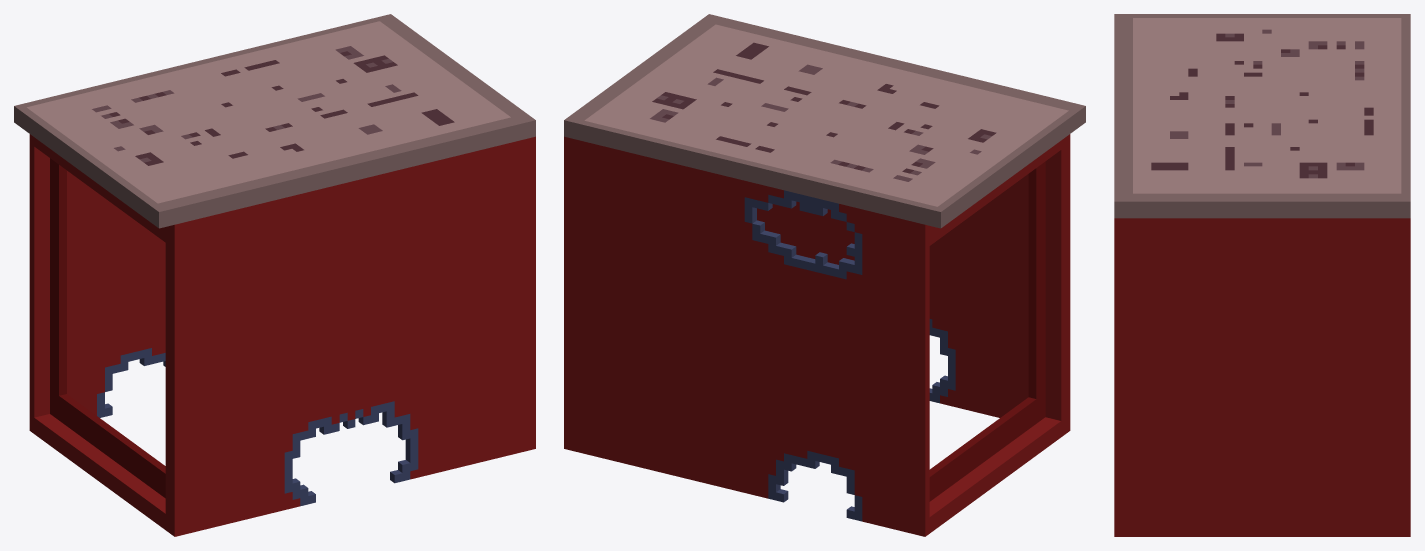
File: BaseCajon3.fbx
3 views of the same model, side by side, from view 1: azimuth 30°, elevation 25°; view 2: azimuth 150°, elevation 25°; view 3: azimuth 270°, elevation 25° (orthographic). The views are drawn at different scales.
Visible parts, largest first — view 1: Base_Cajon_3; view 2: Base_Cajon_3; view 3: Base_Cajon_3.
Boxes of the visible parts, bbox=[...] form: Base_Cajon_3: bbox=[14, 14, 535, 536]; Base_Cajon_3: bbox=[564, 14, 1085, 536]; Base_Cajon_3: bbox=[1114, 14, 1410, 536].
Size of the model in its own units: 480 by 400 by 320.
